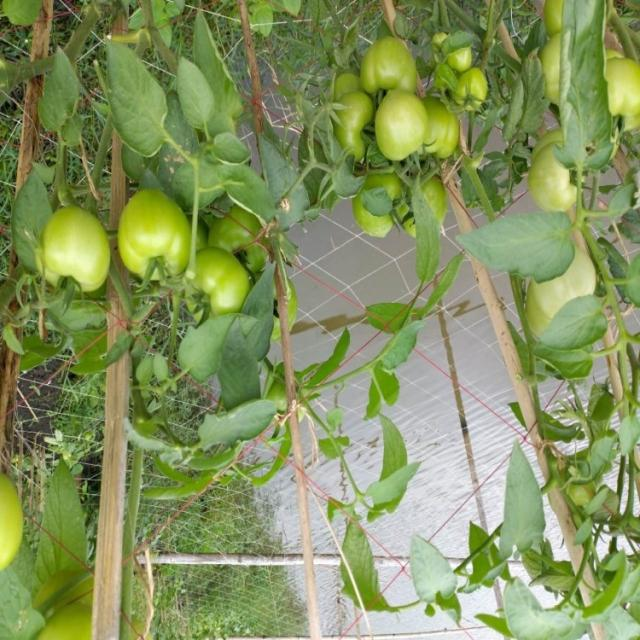tomato: (44, 194, 122, 301), (119, 176, 198, 279), (535, 244, 605, 319), (527, 143, 586, 228), (368, 92, 438, 163), (189, 249, 258, 319), (213, 208, 270, 282), (360, 36, 411, 101), (349, 174, 398, 241), (603, 53, 640, 136), (447, 62, 493, 121), (1, 459, 24, 571), (537, 27, 571, 98)
